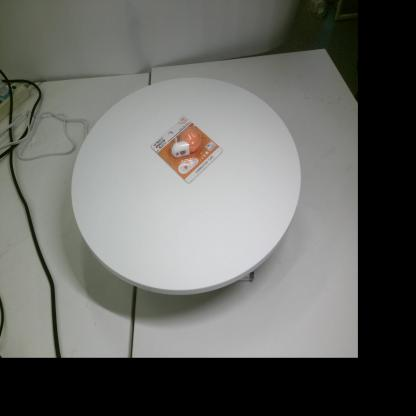Stationery: (150, 116, 223, 184)
